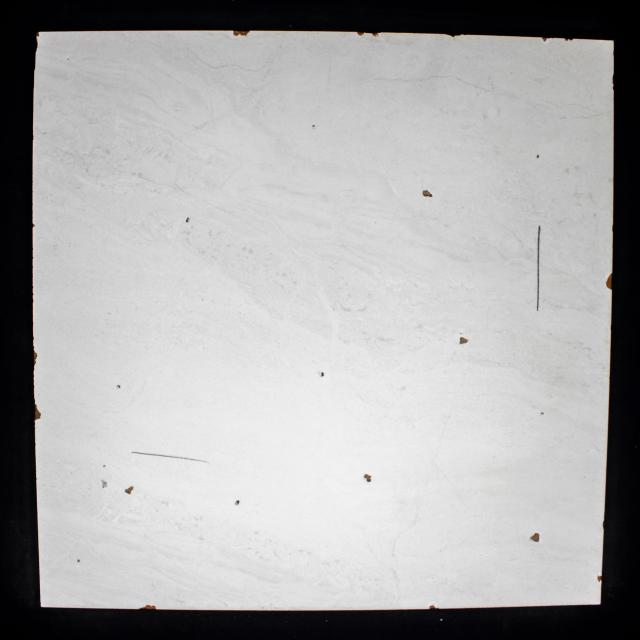edge-chipping: (33, 400, 42, 422), (605, 272, 613, 292), (33, 346, 39, 369), (232, 30, 250, 37), (35, 32, 40, 52), (140, 604, 156, 610), (444, 34, 467, 38), (428, 604, 438, 610), (596, 574, 602, 583), (541, 37, 550, 43), (356, 32, 365, 37), (372, 32, 381, 37), (564, 38, 574, 42)
hole: (530, 532, 540, 543), (124, 485, 134, 495), (458, 336, 469, 345), (422, 190, 434, 198), (363, 472, 372, 482), (234, 499, 241, 506), (184, 216, 191, 223), (320, 370, 325, 378), (535, 153, 540, 159), (76, 558, 80, 564), (116, 384, 122, 388), (540, 412, 545, 416), (312, 124, 316, 128), (102, 464, 106, 468)
line: (130, 451, 209, 463), (536, 225, 541, 312)
